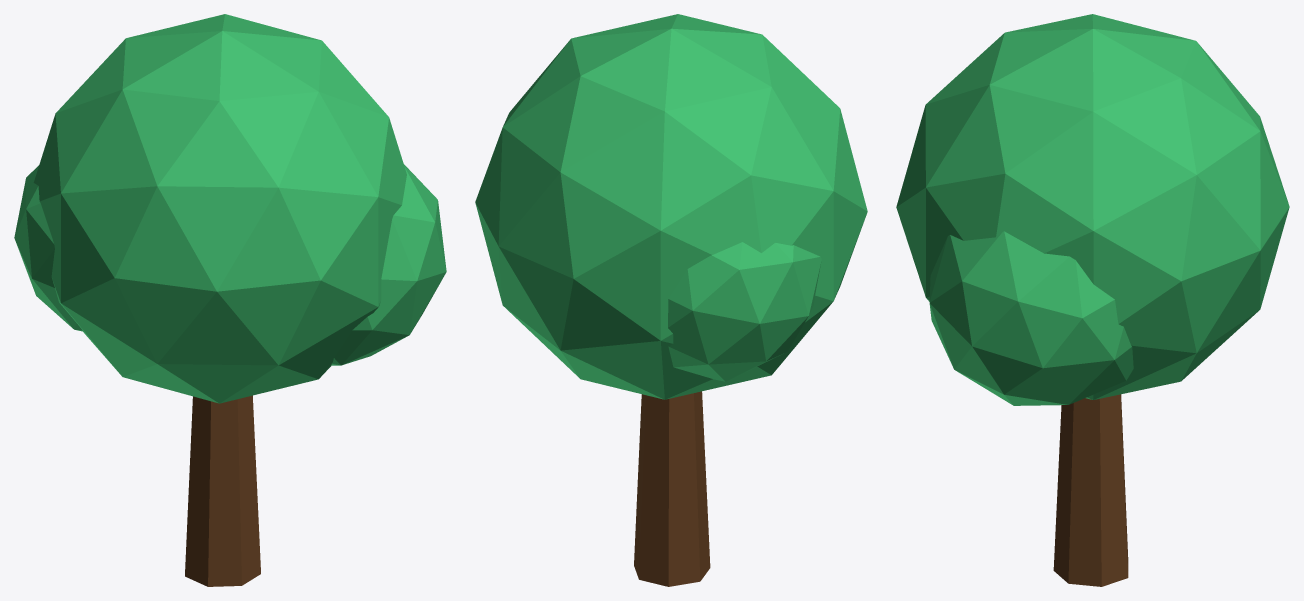
File: oak.glb
3 renders of one model, left to right at view 1: azimuth 30°, elevation 25°; view 2: azimuth 150°, elevation 25°; view 3: azimuth 270°, elevation 25°, orthographic.
Visible parts, largest first — view 1: tree-oak; view 2: tree-oak; view 3: tree-oak.
Part boxes in pixels (x1,y1,x2,y2): tree-oak: [14, 14, 446, 586]; tree-oak: [475, 14, 867, 586]; tree-oak: [896, 14, 1289, 586].
Bounding box in the file's own units: 1.02 × 1.52 × 1.
